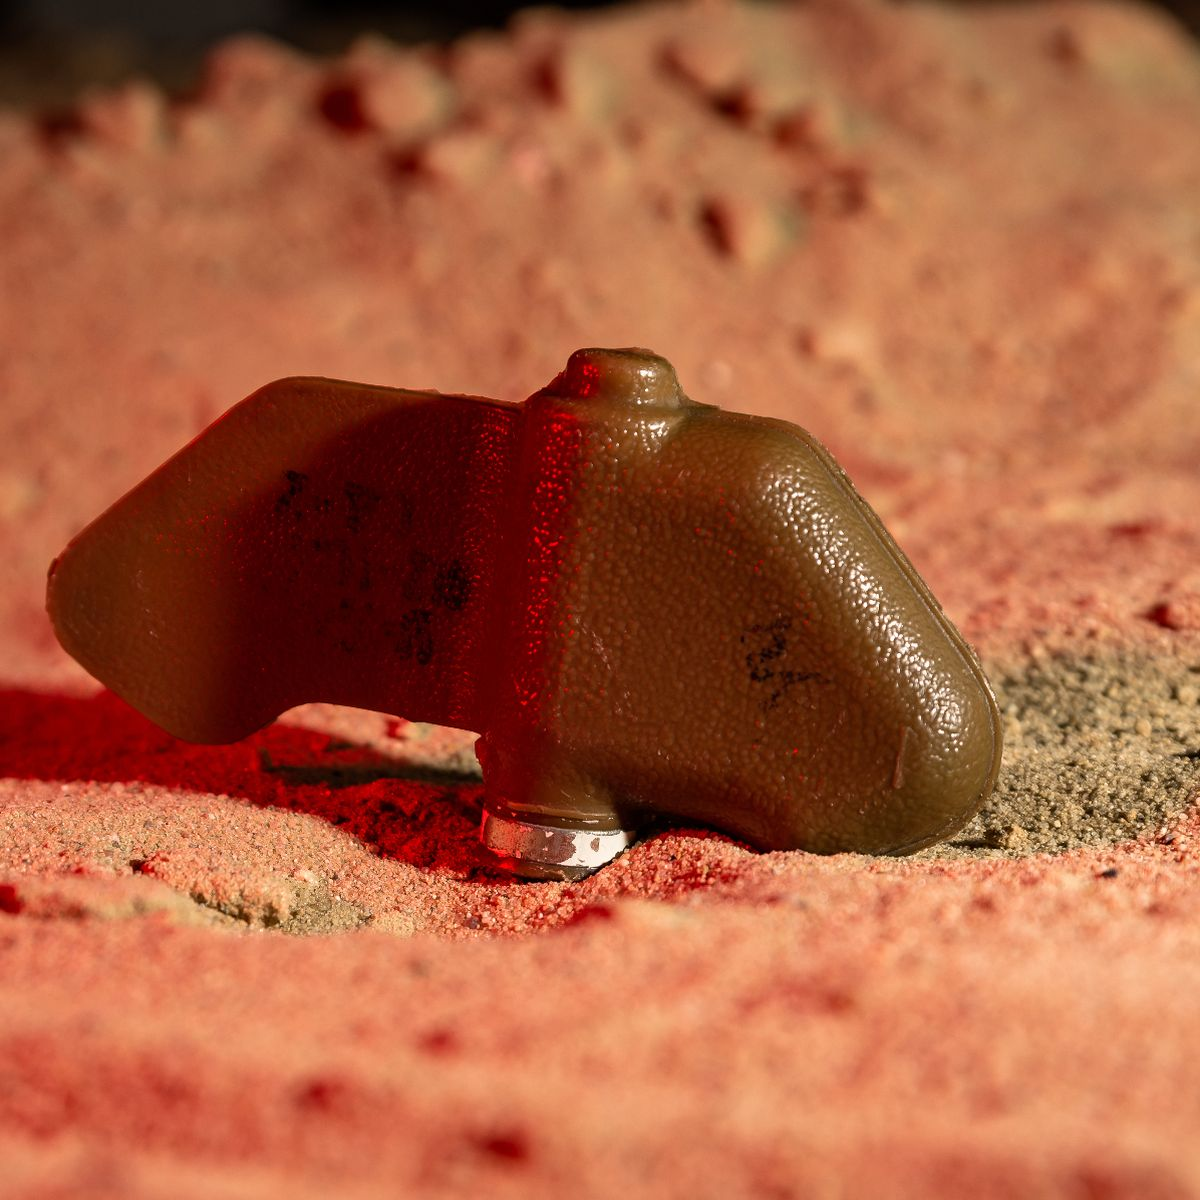butterfly: (27, 321, 1043, 901)
